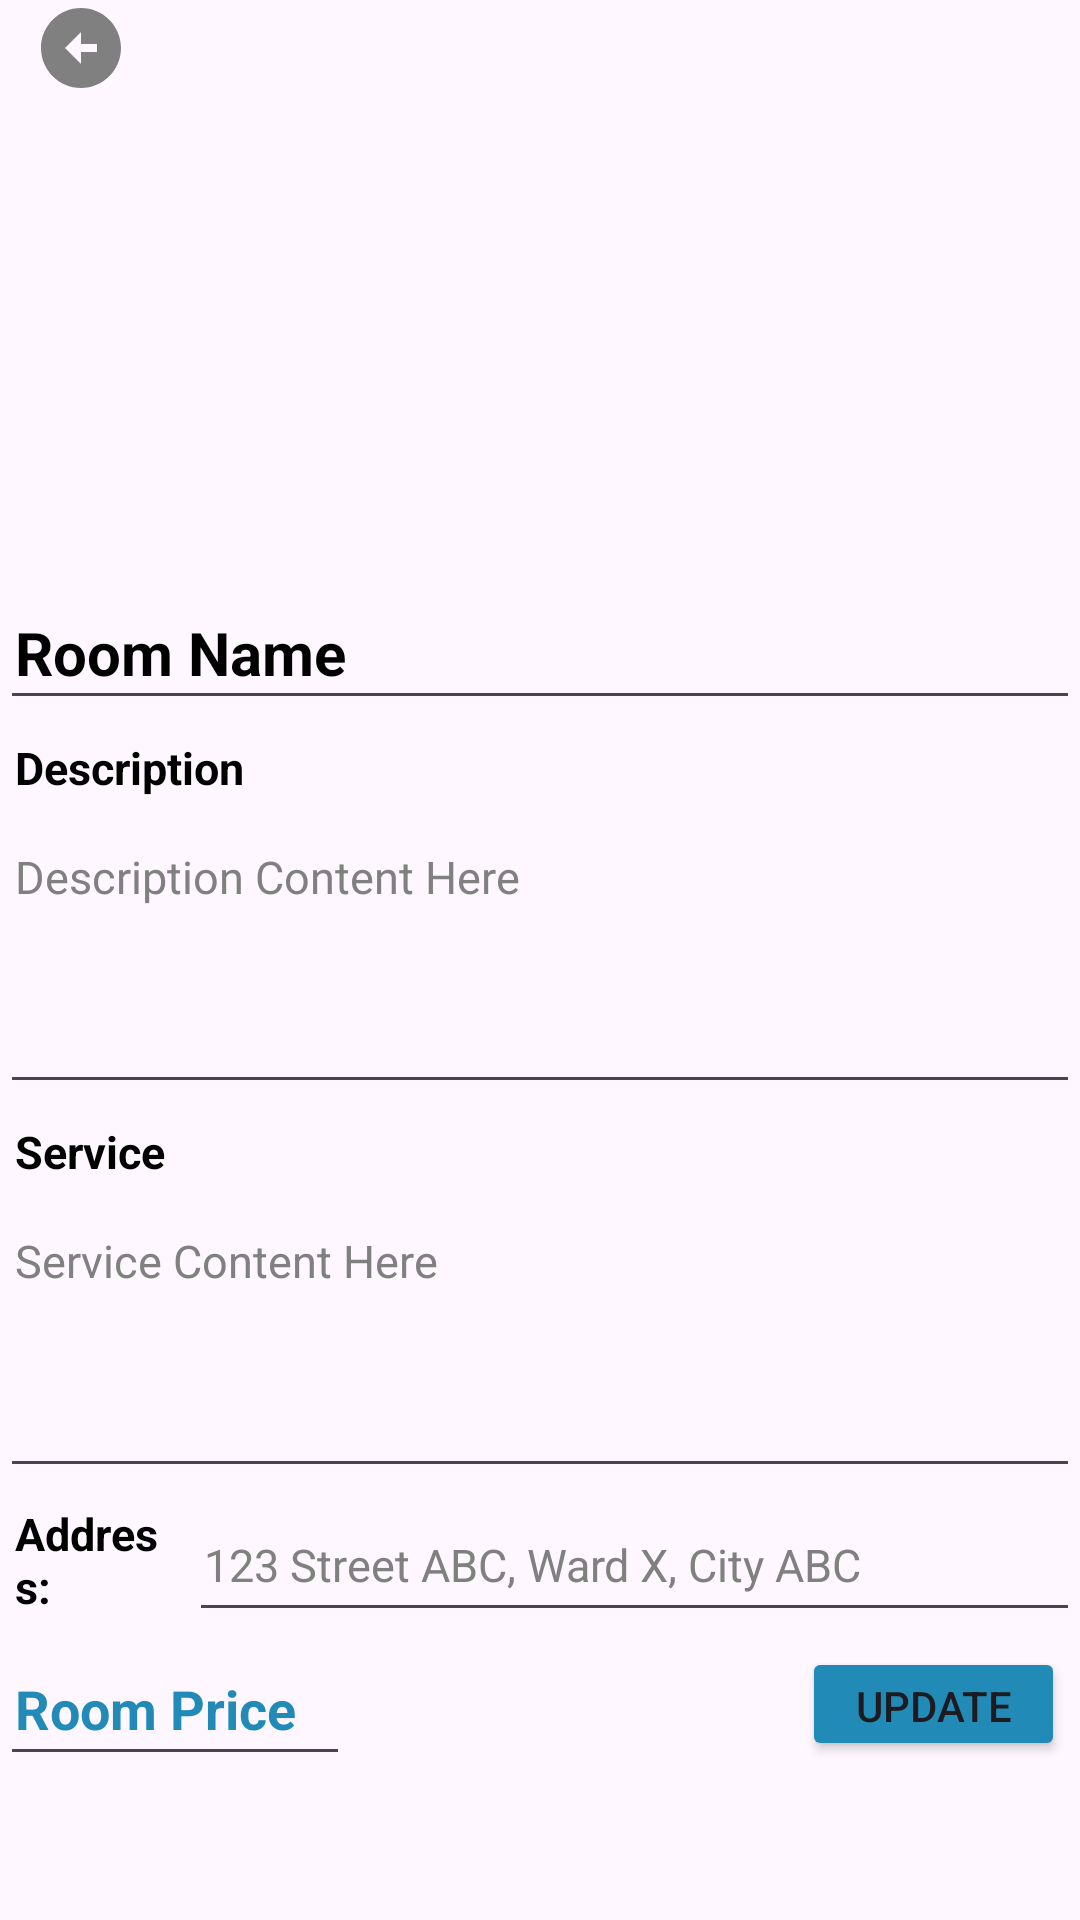

Icons on this 1080×1920 Android screen, each with the point to tap as (x,y):
back: (81,48)
